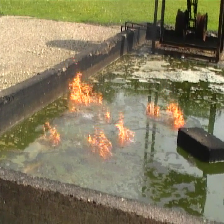fire_h: (68, 71, 102, 111), (87, 126, 112, 158), (114, 112, 135, 145), (165, 101, 184, 128), (42, 120, 60, 146)
fire_l: (146, 103, 161, 117), (106, 111, 110, 121)
